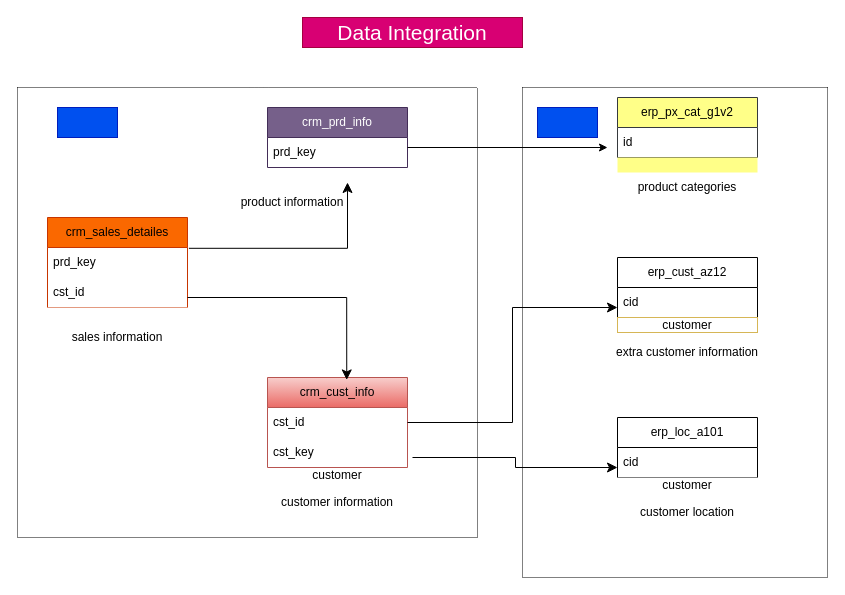
This 845x595 diagram has some shape labels left out. Each missing label, with the centre of its shape:
"CRM" goes at (87,122).
"ERP" goes at (567,122).
"product" goes at (687,164).
"products" goes at (337,174).
"sales" goes at (117,314).
